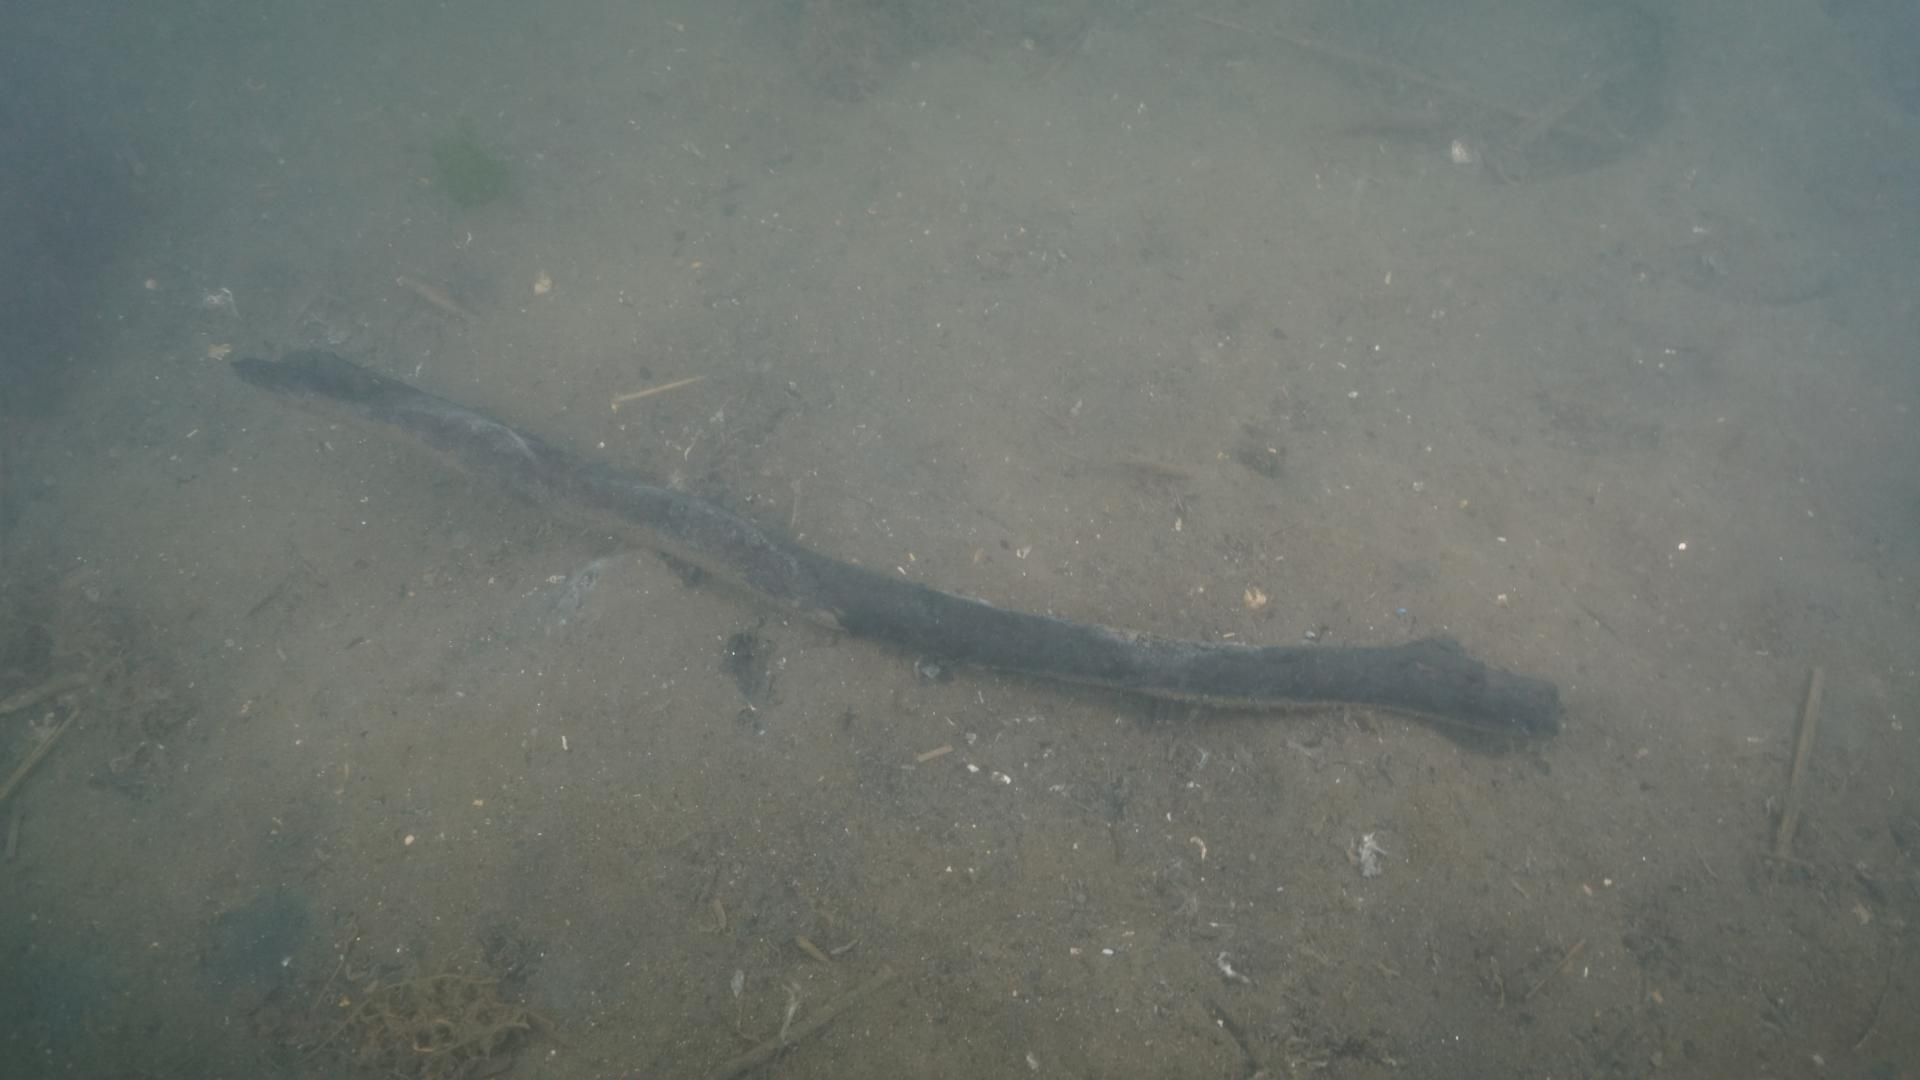wood: (225, 339, 1563, 742)
